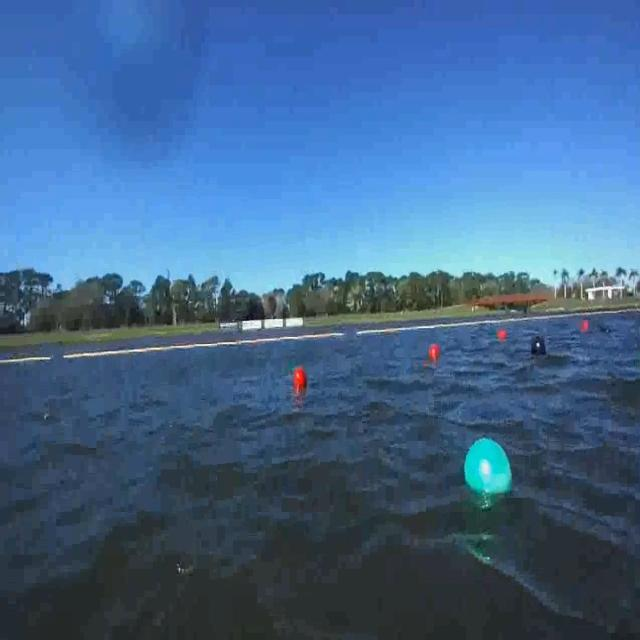black-buoy: (532, 335, 549, 359)
green-buoy: (464, 440, 514, 500)
red-buoy: (294, 368, 305, 386), (428, 345, 439, 360), (497, 328, 507, 340)
